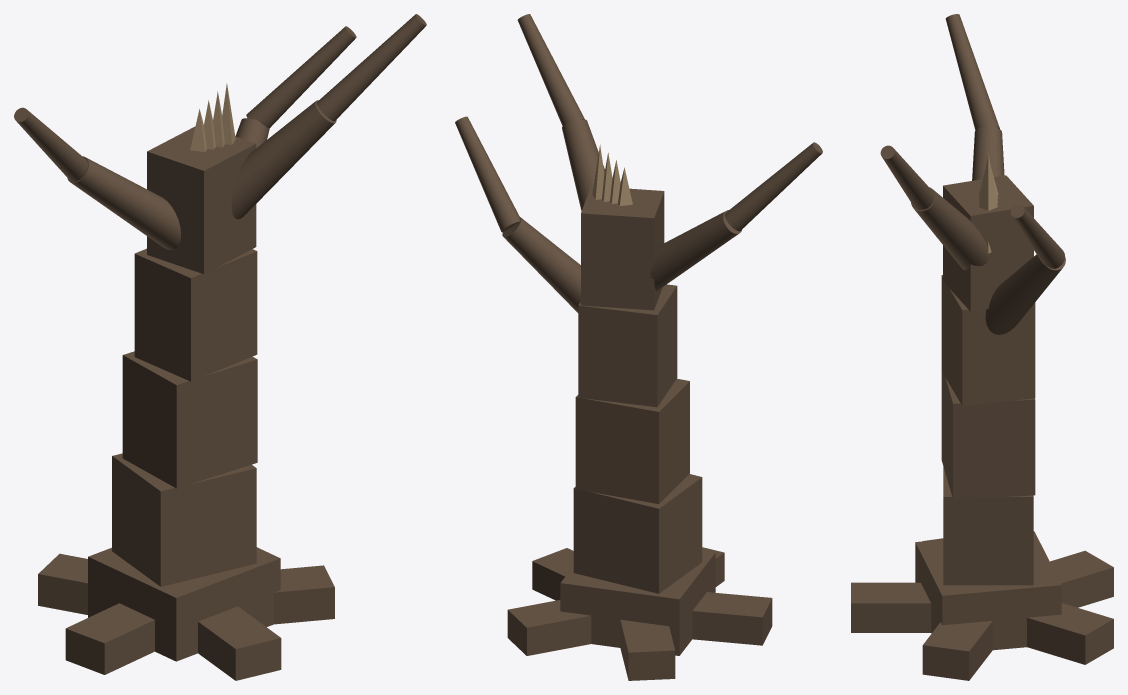
Rendered from FSA_ENV_Outdoor_Tree_02_Broken.glb.
The picture shows the model from 3 angles, left to right: view 1: azimuth 30°, elevation 25°; view 2: azimuth 150°, elevation 25°; view 3: azimuth 270°, elevation 25°; orthographic projection. The views are drawn at different scales.
Visible parts, largest first — view 1: Trunk_1, Trunk_0, Trunk_2, RootCore, Trunk_3, Root_4, Branch_2, Root_0, Branch_1, Root_1, Twig_2, Twig_0 (+3 smaller); view 2: Trunk_0, Trunk_1, Trunk_2, Trunk_3, RootCore, Root_4, Root_2, Branch_0, Branch_1, Root_3, Twig_0, Twig_1 (+3 smaller); view 3: Trunk_1, Trunk_0, Trunk_2, RootCore, Trunk_3, Root_0, Root_2, Root_1, Branch_0, Branch_2, Root_3, Twig_1 (+4 smaller).
Part boxes in pixels (<box>): Trunk_1: <box>122,351,257,488</box>; Trunk_0: <box>112,453,256,586</box>; Trunk_2: <box>134,248,257,381</box>; RootCore: <box>88,547,280,661</box>; Trunk_3: <box>147,126,256,274</box>; Root_4: <box>65,603,154,674</box>; Branch_2: <box>231,100,336,219</box>; Root_0: <box>198,606,281,680</box>; Branch_1: <box>67,156,180,250</box>; Root_1: <box>274,565,334,624</box>; Twig_2: <box>316,14,426,121</box>; Twig_0: <box>246,26,356,128</box>; Trunk_0: <box>573,474,702,593</box>; Trunk_1: <box>575,378,689,503</box>; Trunk_2: <box>578,284,677,407</box>; Trunk_3: <box>581,186,664,310</box>; RootCore: <box>560,550,715,655</box>; Root_4: <box>692,592,772,645</box>; Root_2: <box>507,600,591,655</box>; Branch_0: <box>502,217,580,312</box>; Branch_1: <box>650,210,742,290</box>; Root_3: <box>620,619,675,680</box>; Twig_0: <box>455,116,520,232</box>; Twig_1: <box>724,142,822,231</box>; Trunk_1: <box>941,371,1035,499</box>; Trunk_0: <box>943,467,1033,585</box>; Trunk_2: <box>941,275,1035,405</box>; RootCore: <box>915,531,1061,650</box>; Trunk_3: <box>943,175,1033,311</box>; Root_0: <box>851,582,931,632</box>; Root_2: <box>1027,603,1113,664</box>; Root_1: <box>922,621,992,680</box>; Branch_0: <box>985,254,1065,334</box>; Branch_2: <box>911,187,988,270</box>; Root_3: <box>1050,550,1113,607</box>; Twig_1: <box>945,14,999,130</box>.
Size of the model in its own units: 2.47 by 3.78 by 1.62.
